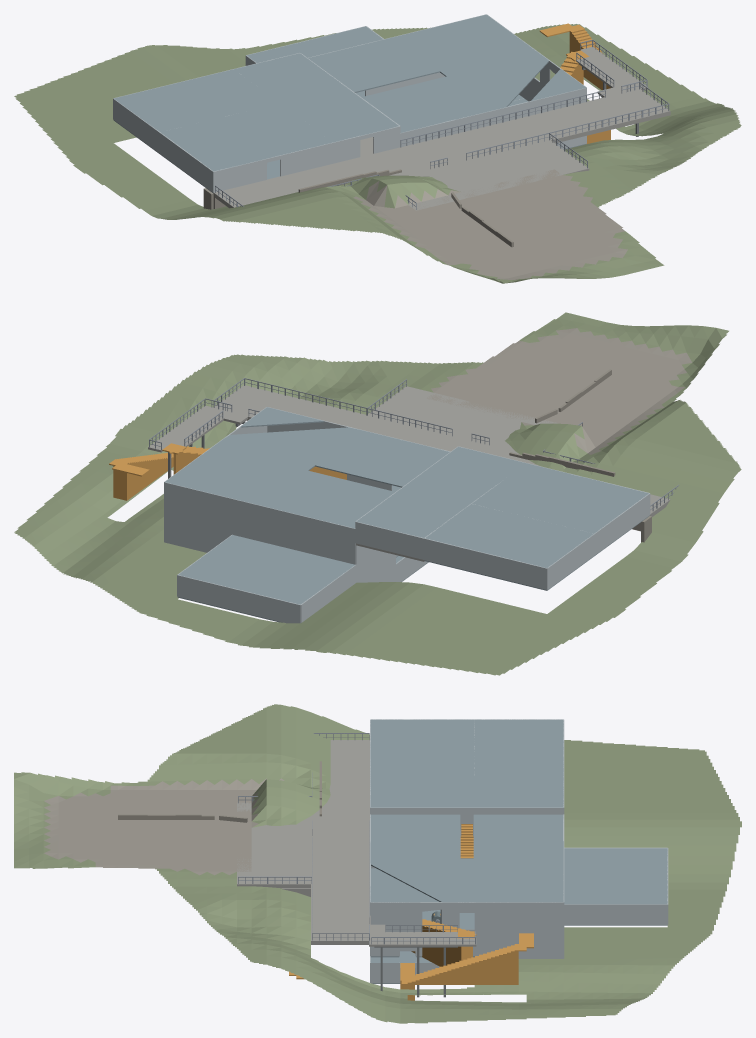
File: joined-stairs.glb
The picture shows the model from 3 angles, top to bottom: view 1: azimuth 30°, elevation 25°; view 2: azimuth 150°, elevation 25°; view 3: azimuth 270°, elevation 25°; orthographic projection. The views are drawn at different scales.
Visible parts, largest first — view 1: Saved editor geographic earthworks WLD-09, WLD-09 complete structural crest deck region0, Ceiling cap west-stair, Ceiling cap control, Ceiling cap office, WLD-09 complete bridge arrival forecourt region0, Restored ceiling-cap turbine 0 region0, Ceiling cap turbine.006, Ceiling cap turbine.003, Ceiling cap turbine, Opened stair shell Wall turbine S.001, Ceiling cap plant (+13 smaller); view 2: Saved editor geographic earthworks WLD-09, Ceiling cap west-stair, Ceiling cap control, Ceiling cap plant, Flat route shell Wall turbine N.001, Ceiling cap office, WLD-09 complete structural crest deck region0, WLD-09 complete bridge arrival forecourt region0, Restored ceiling-cap turbine 0 region0, Ceiling cap turbine.006, Wall office N, Wall plant N (+13 smaller); view 3: Saved editor geographic earthworks WLD-09, WLD-09 complete structural crest deck region0, Opened stair shell Wall turbine E, Ceiling cap west-stair, Ceiling cap control, Ceiling cap plant, Ceiling cap office, Restored ceiling-cap turbine 0 region0, WLD-09 complete bridge arrival forecourt region0, Ceiling cap turbine.006, Ceiling cap turbine, Ceiling cap turbine.003 (+7 smaller).
Part boxes in pixels (x1,y1,x2,y2): Saved editor geographic earthworks WLD-09: (14, 24, 741, 283); WLD-09 complete structural crest deck region0: (213, 89, 670, 208); Ceiling cap west-stair: (234, 53, 398, 142); Ceiling cap control: (160, 103, 332, 171); Ceiling cap office: (114, 69, 278, 131); WLD-09 complete bridge arrival forecourt region0: (407, 140, 589, 210); Restored ceiling-cap turbine 0 region0: (409, 54, 548, 119); Ceiling cap turbine.006: (393, 14, 531, 70); Ceiling cap turbine.003: (362, 86, 454, 132); Ceiling cap turbine: (308, 46, 400, 91); Opened stair shell Wall turbine S.001: (465, 87, 586, 149); Ceiling cap plant: (246, 26, 382, 62); Saved editor geographic earthworks WLD-09: (14, 312, 741, 675); Ceiling cap west-stair: (356, 446, 526, 537); Ceiling cap control: (472, 463, 648, 533); Ceiling cap plant: (178, 535, 355, 604); Flat route shell Wall turbine N.001: (164, 482, 288, 550); Ceiling cap office: (425, 504, 593, 567); WLD-09 complete structural crest deck region0: (213, 385, 670, 516); WLD-09 complete bridge arrival forecourt region0: (368, 386, 557, 450); Restored ceiling-cap turbine 0 region0: (221, 427, 400, 475); Ceiling cap turbine.006: (165, 448, 306, 505); Wall office N: (424, 538, 547, 589); Wall plant N: (177, 575, 300, 623); Saved editor geographic earthworks WLD-09: (14, 704, 741, 1023); WLD-09 complete structural crest deck region0: (311, 740, 370, 944); Opened stair shell Wall turbine E: (370, 902, 563, 956); Ceiling cap west-stair: (370, 776, 563, 807); Ceiling cap control: (370, 719, 474, 776); Ceiling cap plant: (564, 848, 667, 904); Ceiling cap office: (474, 719, 563, 776); Restored ceiling-cap turbine 0 region0: (370, 840, 460, 902); WLD-09 complete bridge arrival forecourt region0: (237, 802, 310, 888); Ceiling cap turbine.006: (475, 858, 563, 902); Ceiling cap turbine: (475, 814, 563, 840); Ceiling cap turbine.003: (370, 814, 458, 840).
Size of the model in its own units: 85 by 13.4 by 98.
39 materials, 19 textured.
